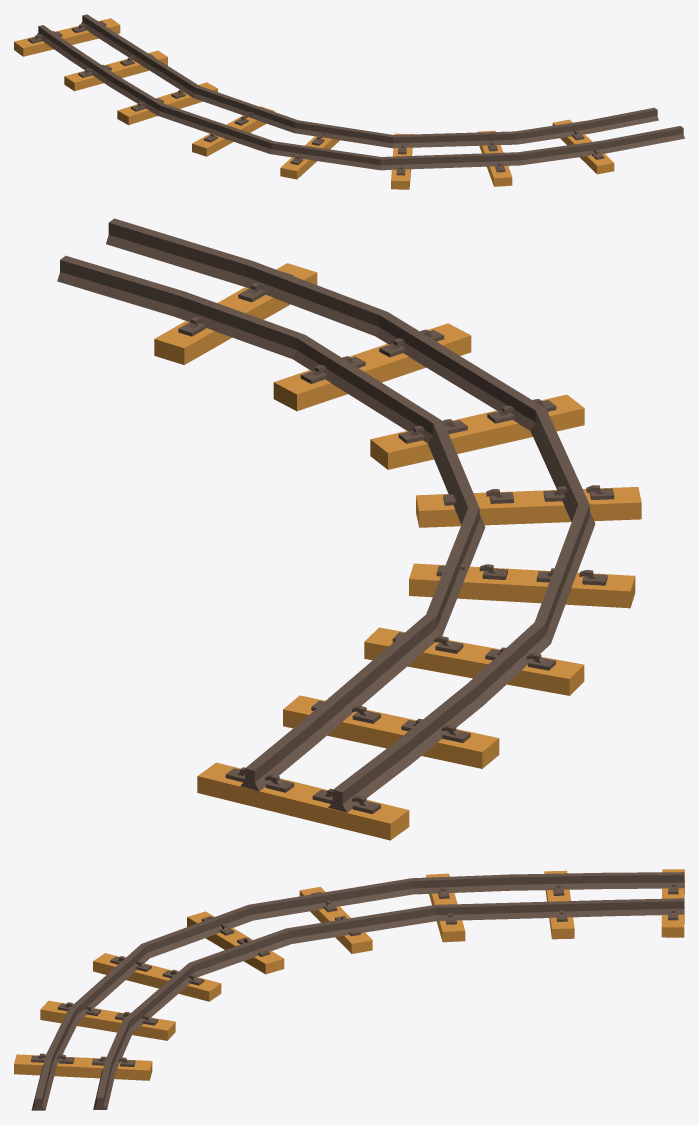
Rendered from TrainTrack_Curve.fbx.
3 views of the same model, one above another, from view 1: azimuth 30°, elevation 25°; view 2: azimuth 150°, elevation 25°; view 3: azimuth 270°, elevation 25° (orthographic). The views are drawn at different scales.
Visible parts, largest first — view 1: TrainTrack_Curve; view 2: TrainTrack_Curve; view 3: TrainTrack_Curve.
Boxes of the visible parts, x1,y1,x2,y2 form: TrainTrack_Curve: (14,14,684,189); TrainTrack_Curve: (57,218,641,840); TrainTrack_Curve: (14,869,684,1110).
Bounding box in the file's own units: 376 × 442 × 16.06.
